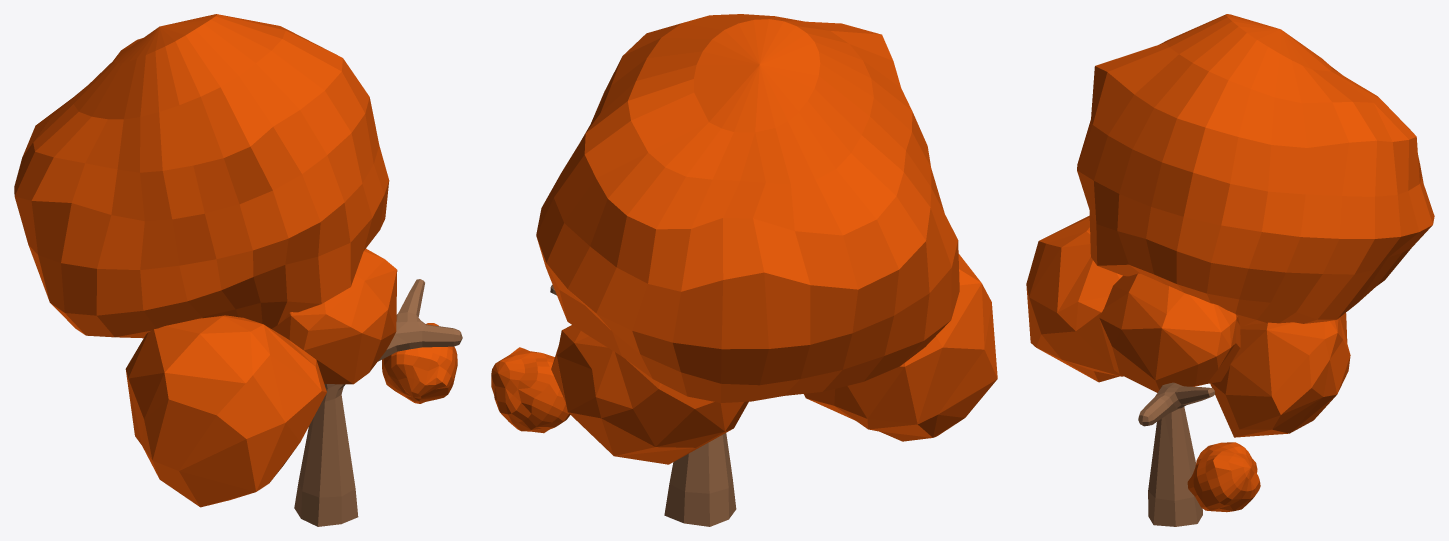
File: tree-autumn-complete-9-012.glb
3 renders of one model, left to right at view 1: azimuth 30°, elevation 25°; view 2: azimuth 150°, elevation 25°; view 3: azimuth 270°, elevation 25°, orthographic. The views are drawn at different scales.
Parts seen in each view (by area): view 1: TREE 9.003_405, TREE 9.002_406; view 2: TREE 9.003_405, TREE 9.002_406; view 3: TREE 9.003_405, TREE 9.002_406.
Part boxes in pixels (x1,y1,x2,y2): TREE 9.003_405: (14,14,457,507); TREE 9.002_406: (294,279,462,526); TREE 9.003_405: (491,14,997,464); TREE 9.002_406: (550,285,736,526); TREE 9.003_405: (1026,14,1434,512); TREE 9.002_406: (1138,382,1214,526).
Size of the model in its own units: 1.3 by 1.5 by 1.22.
